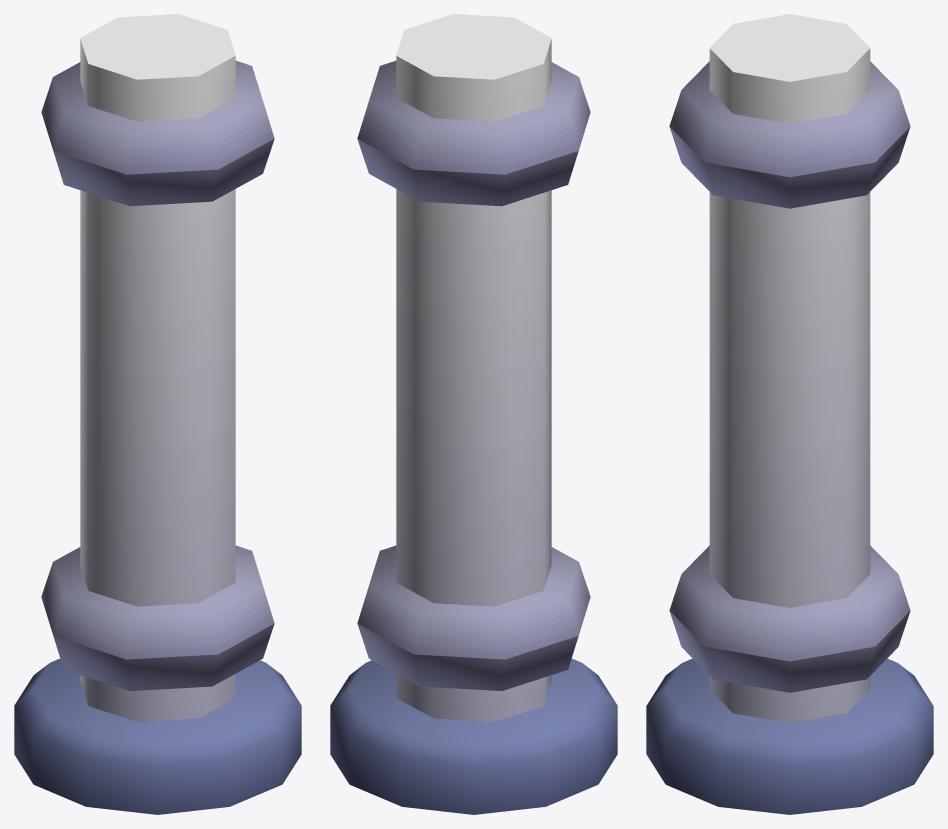
The model's file is template-detail.glb.
3 views of the same model, side by side, from view 1: azimuth 30°, elevation 25°; view 2: azimuth 150°, elevation 25°; view 3: azimuth 270°, elevation 25° (orthographic).
Parts seen in each view (by area): view 1: template-detail; view 2: template-detail; view 3: template-detail.
Boxes of the visible parts, x1=… form: template-detail: x1=14, y1=14, x2=301, y2=814; template-detail: x1=330, y1=14, x2=617, y2=814; template-detail: x1=646, y1=14, x2=933, y2=814.
Size of the model in its own units: 1.56 by 4.23 by 1.56.
Materials: 1 (1 with a texture image).
